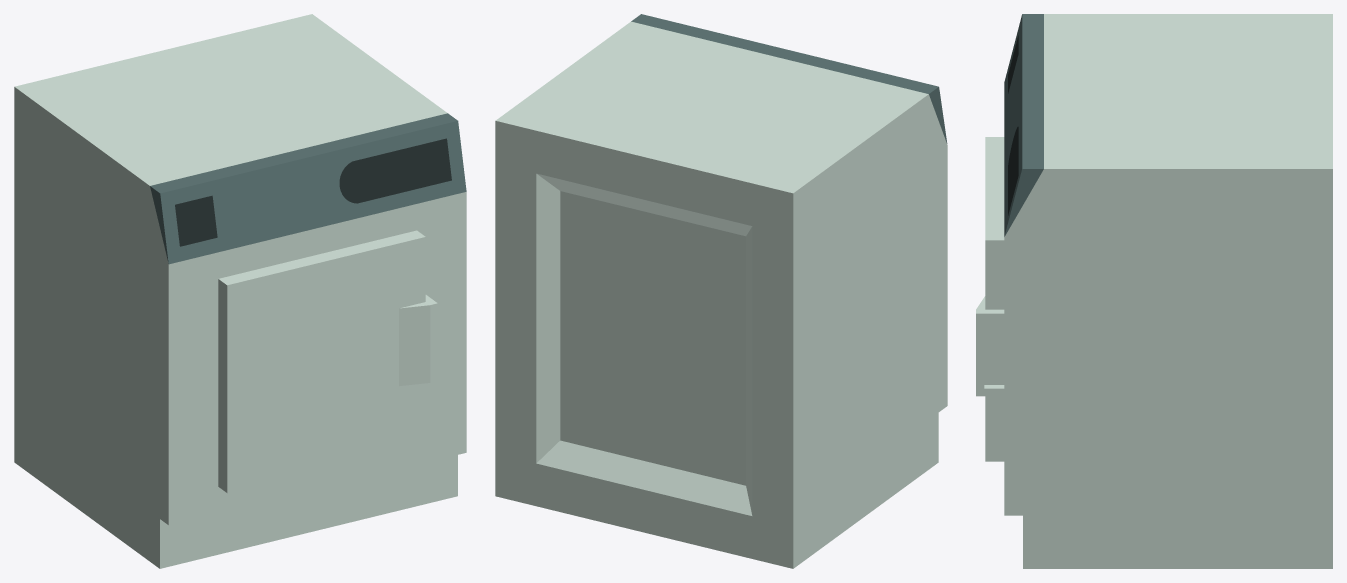
The model's file is dryer.glb.
3 renders of one model, left to right at view 1: azimuth 30°, elevation 25°; view 2: azimuth 150°, elevation 25°; view 3: azimuth 270°, elevation 25°, orthographic. The views are drawn at different scales.
Visible parts, largest first — view 1: dryer, dryerDoor; view 2: dryer; view 3: dryer, dryerDoor.
Part boxes in pixels (x1=…): dryer: x1=14, y1=14, x2=466, y2=568; dryerDoor: x1=218, y1=230, x2=437, y2=492; dryer: x1=495, y1=14, x2=947, y2=568; dryer: x1=1004, y1=14, x2=1332, y2=568; dryerDoor: x1=976, y1=137, x2=1004, y2=461.
Size of the model in its own units: 0.702 by 0.846 by 0.684.
